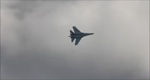maybay_muctieu: (68, 25, 95, 46)
